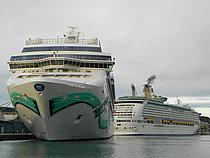Ship: (4, 23, 122, 143), (112, 80, 207, 140)
